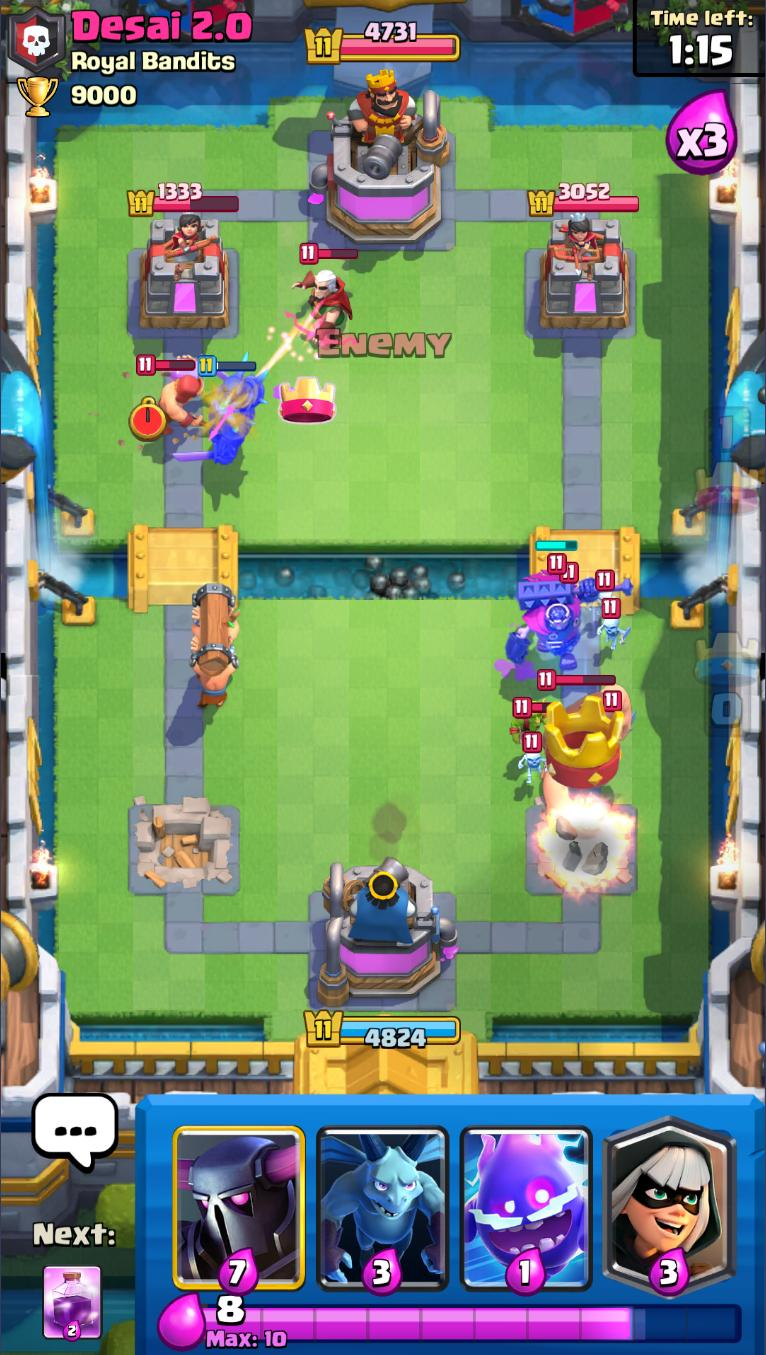BanditDeck: (597, 1094, 741, 1299)
ElectroSpiritDeck: (454, 1096, 600, 1296)
Elixir: (203, 1294, 744, 1351)
EnemyTower: (136, 214, 234, 334), (539, 214, 633, 333)
Giant: (539, 670, 631, 740)
Goblin: (510, 697, 546, 747)
KingTower: (309, 70, 454, 246)
KingTowerHP: (307, 20, 461, 64)
Lumberjack: (137, 353, 209, 440)
MagicArcher: (281, 243, 359, 349)
MinionsDeck: (313, 1099, 451, 1297)
MyBattleRam: (189, 584, 243, 710)
MyKingHP: (303, 1007, 463, 1050)
MyKingTower: (314, 859, 460, 1011)
MyPekka: (164, 354, 270, 466)
MyPrincessTowerBrocken: (124, 793, 240, 893), (527, 793, 641, 889)
PekkaDeck: (166, 1096, 311, 1294)
PrincessTower: (147, 217, 206, 266), (550, 217, 604, 266)
RageNext: (41, 1264, 103, 1343)
Skeleton: (514, 731, 553, 784), (596, 597, 634, 650), (594, 567, 614, 610)
SkeletonKing: (506, 539, 634, 673)
TowerPrincessHP: (127, 181, 240, 217), (530, 183, 641, 217)
